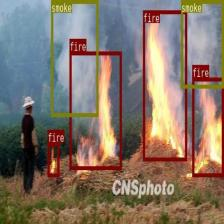fire: (142, 9, 186, 160), (69, 51, 121, 169), (192, 77, 223, 176), (47, 142, 59, 176)
smoke: (50, 0, 98, 116), (181, 0, 223, 87)
